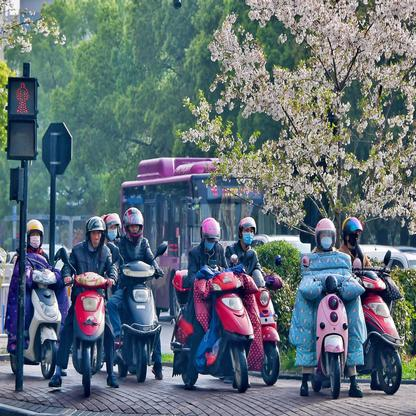target: (169, 217, 253, 395), (289, 218, 366, 402), (49, 216, 118, 398), (339, 216, 407, 397), (224, 216, 286, 388), (108, 206, 166, 385), (6, 218, 60, 378)
